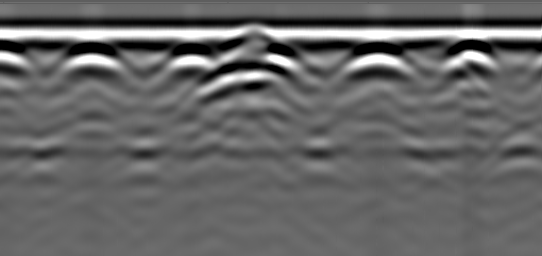pipe: (232, 27, 280, 49)
steel: (345, 45, 406, 81), (156, 44, 216, 79), (62, 45, 119, 79), (446, 42, 496, 76)
